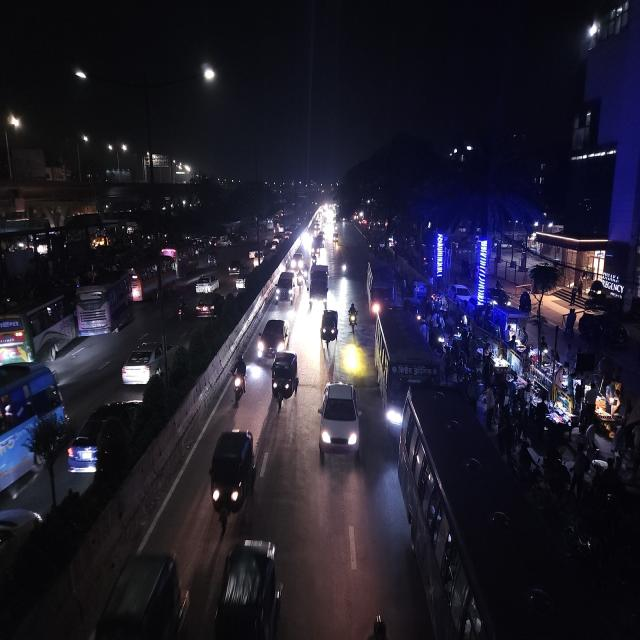bus: (396, 388, 624, 640), (0, 359, 66, 498), (372, 307, 440, 433), (0, 288, 78, 361), (76, 273, 134, 338), (364, 256, 396, 316)
car: (0, 500, 46, 640), (67, 396, 143, 479), (317, 379, 362, 464), (119, 339, 165, 389), (254, 314, 290, 364), (193, 290, 227, 322), (274, 268, 297, 306), (194, 273, 222, 296), (452, 282, 472, 308), (290, 249, 306, 272), (227, 258, 243, 276), (234, 273, 248, 293), (250, 249, 264, 265), (266, 236, 280, 251)
cng: (207, 423, 257, 528), (270, 348, 300, 413), (319, 306, 340, 347), (206, 252, 218, 268)
motorcycle: (229, 352, 249, 407), (347, 300, 359, 334), (175, 296, 189, 324), (339, 255, 349, 278)
truck: (308, 261, 330, 312)
